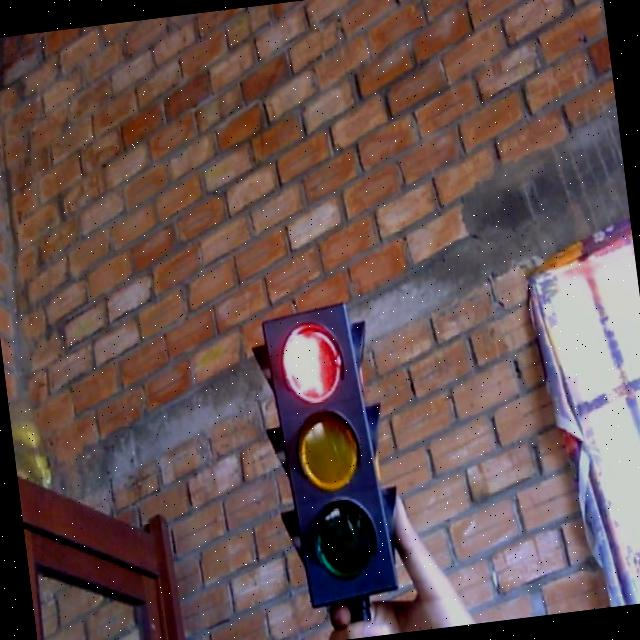red_light: (267, 311, 359, 411)
